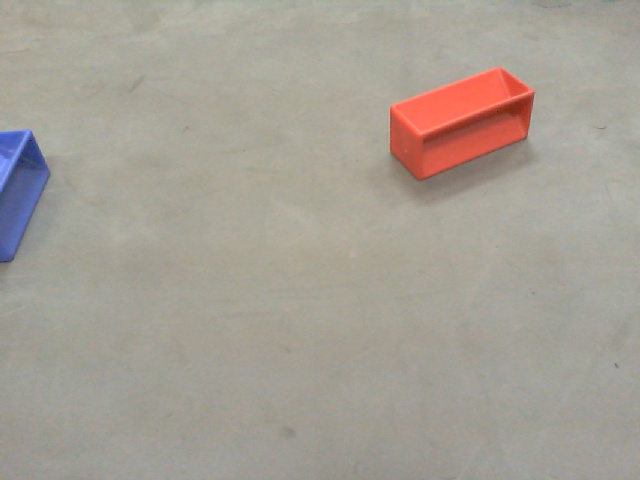BlueSample: (1, 127, 53, 259)
RedSample: (386, 64, 540, 184)
